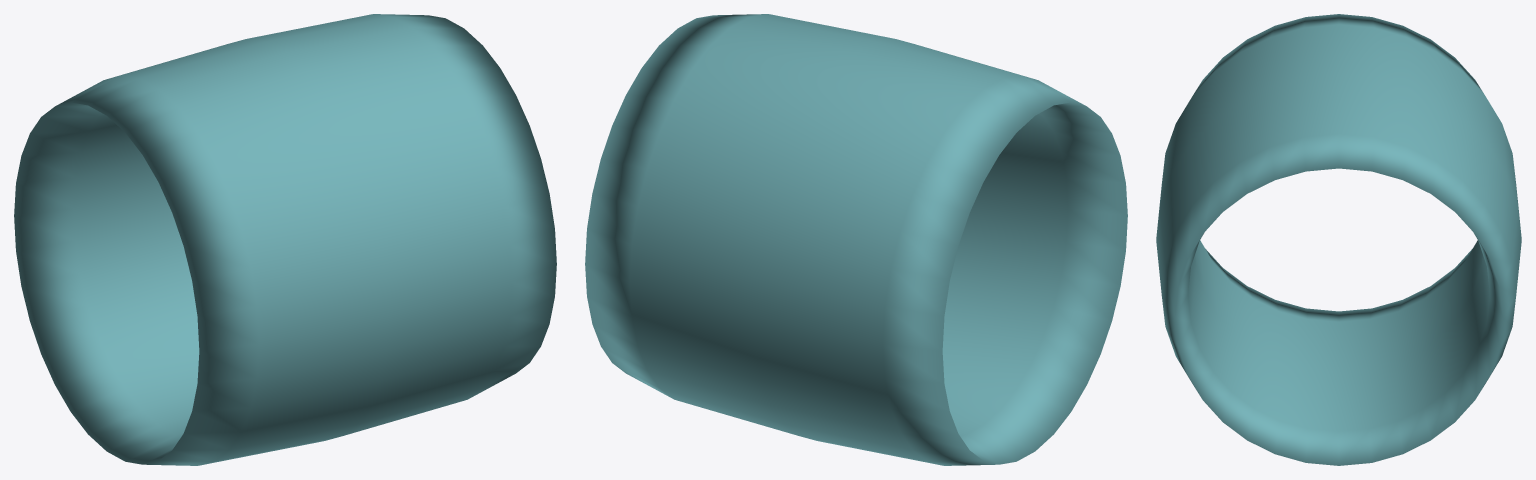
The picture shows the model from 3 angles, left to right: view 1: azimuth 30°, elevation 25°; view 2: azimuth 150°, elevation 25°; view 3: azimuth 270°, elevation 25°; orthographic projection. The views are drawn at different scales.
Visible parts, largest first — view 1: torus; view 2: torus; view 3: torus.
Boxes of the visible parts, x1,y1,x2,y2 form: torus: [14, 14, 556, 465]; torus: [585, 14, 1127, 465]; torus: [1156, 14, 1521, 465].
Size of the model in its own units: 1 by 1 by 1.
